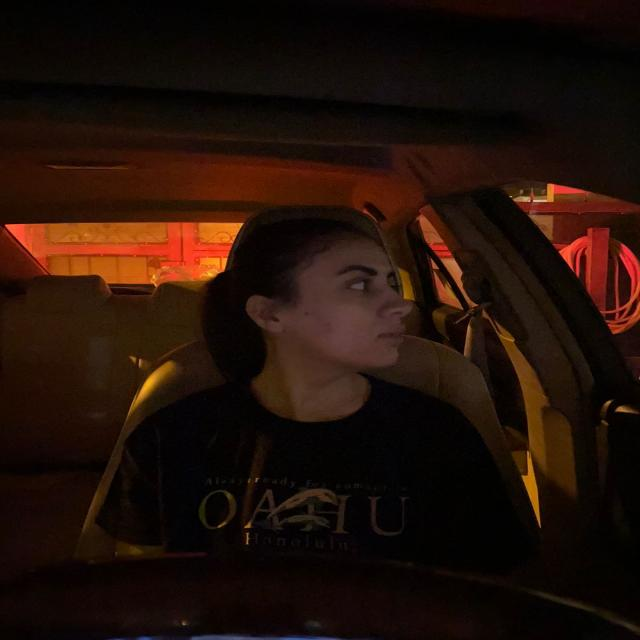LeftRight: (231, 202, 429, 426)
